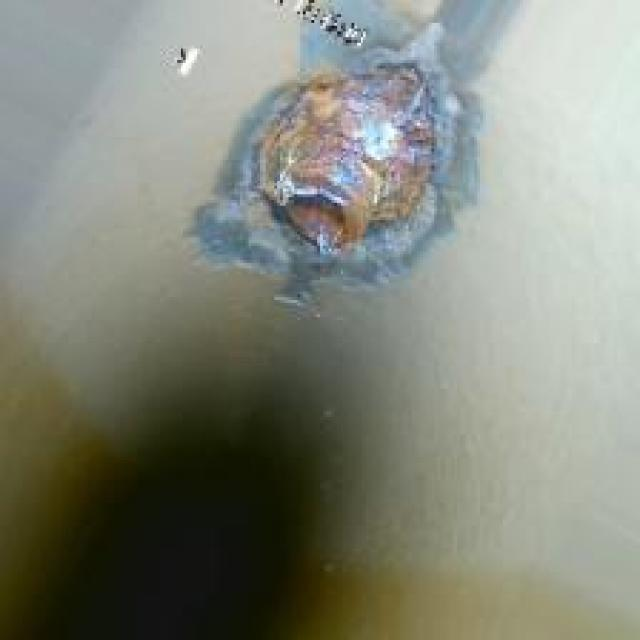ferrule: (254, 57, 437, 263)
